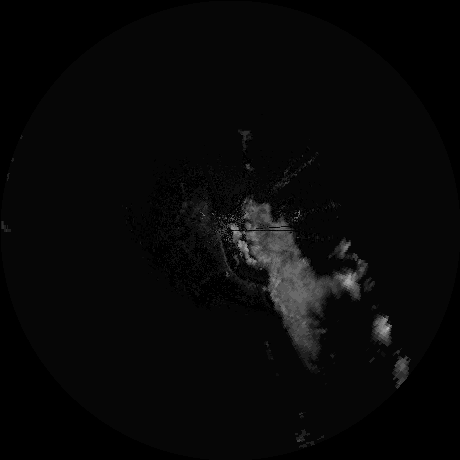frontgust: (219, 233, 241, 281)
